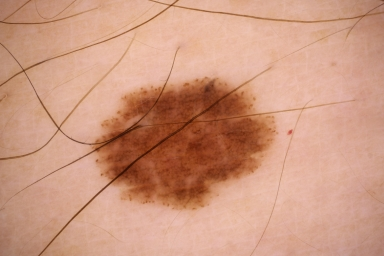melanoma: (93, 79, 276, 207)
